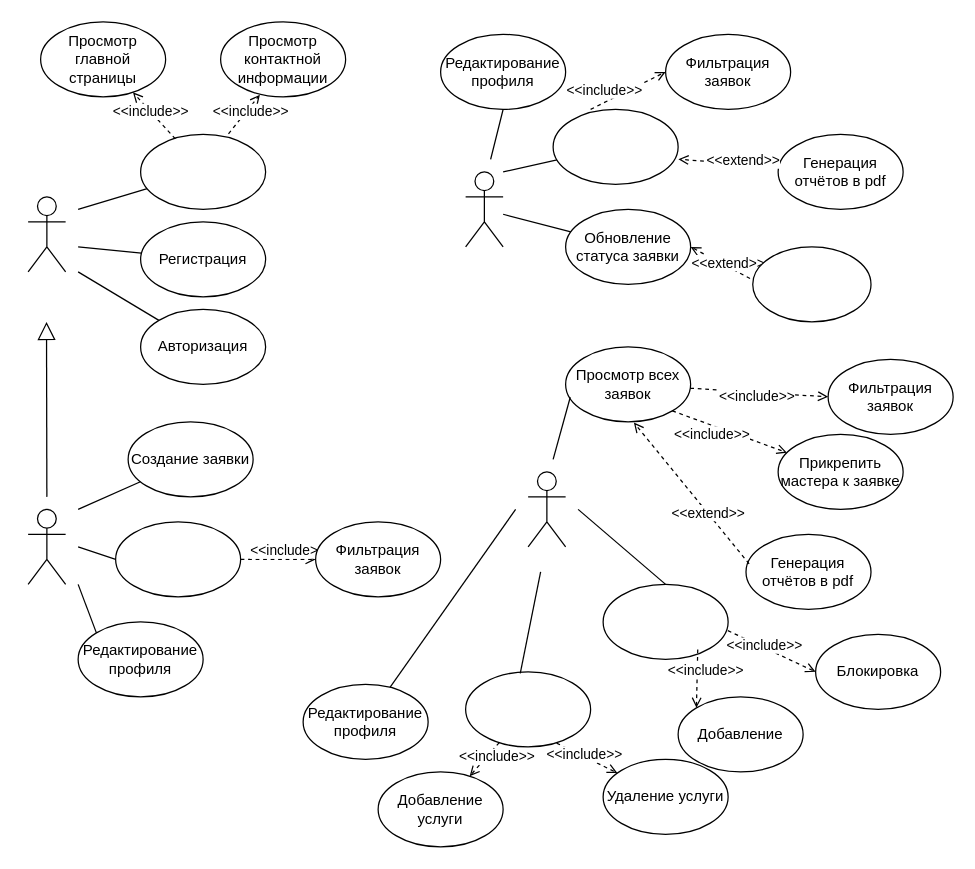
This 975x869 diagram has some shape labels left out. The centre of each missing label's shape, as x and y in pixels:
"Администратор" goes at pixel 546 509.
"Гость" goes at pixel 46 234.
"Добавление комментариев к заявке" goes at pixel 811 284.
"Клиент" goes at pixel 46 546.
"Мастер" goes at pixel 483 209.
"Просмотр" goes at pixel 202 171.
"Просмотр заявок" goes at pixel 177 559.
"Просмотр назначенных заявок" goes at pixel 615 146.
"Управление пользователями" goes at pixel 665 621.
"Управление списком услуг" goes at pixel 527 709.
